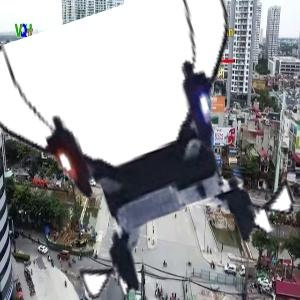drone: (2, 6, 291, 295)
